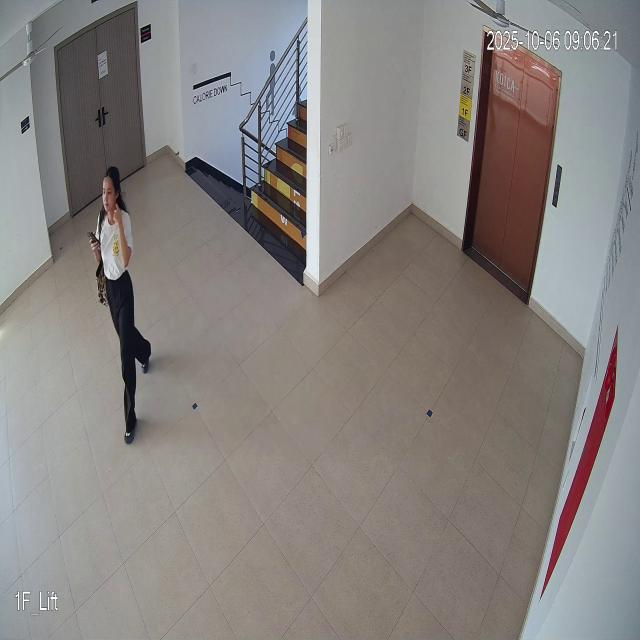face: (96, 161, 125, 224)
